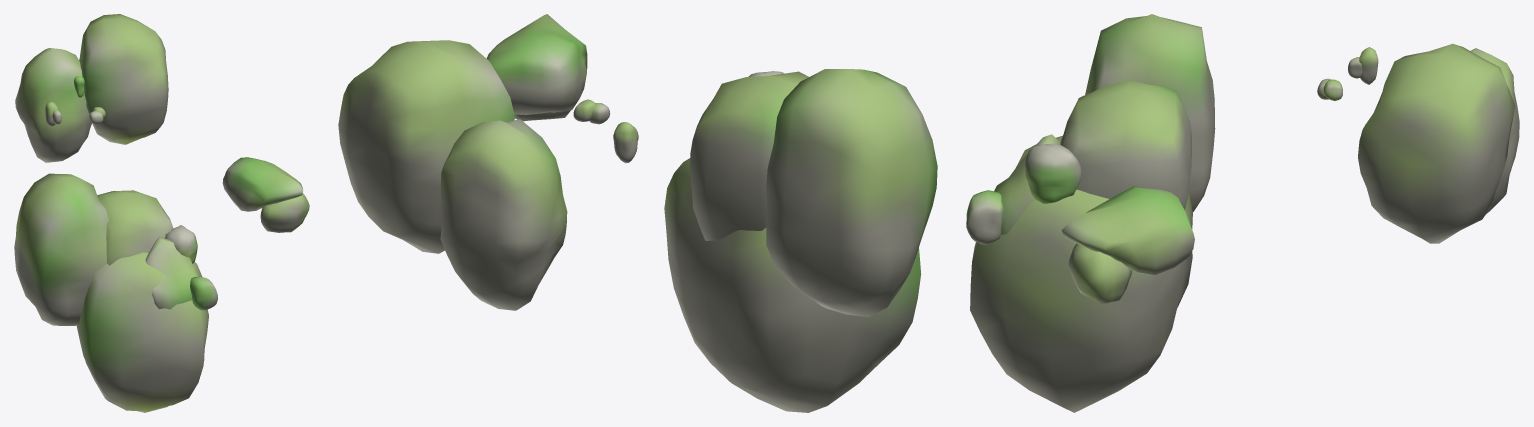
The model's file is Dio_Rocks.fbx.
3 views of the same model, side by side, from view 1: azimuth 30°, elevation 25°; view 2: azimuth 150°, elevation 25°; view 3: azimuth 270°, elevation 25° (orthographic). The views are drawn at different scales.
Visible parts, largest first — view 1: Plane.032; view 2: Plane.032; view 3: Plane.032.
Boxes of the visible parts, x1,y1,x2,y2 form: Plane.032: [14, 14, 309, 412]; Plane.032: [338, 14, 937, 412]; Plane.032: [966, 14, 1519, 412].
Size of the model in its own units: 1483 by 1514 by 1797.
